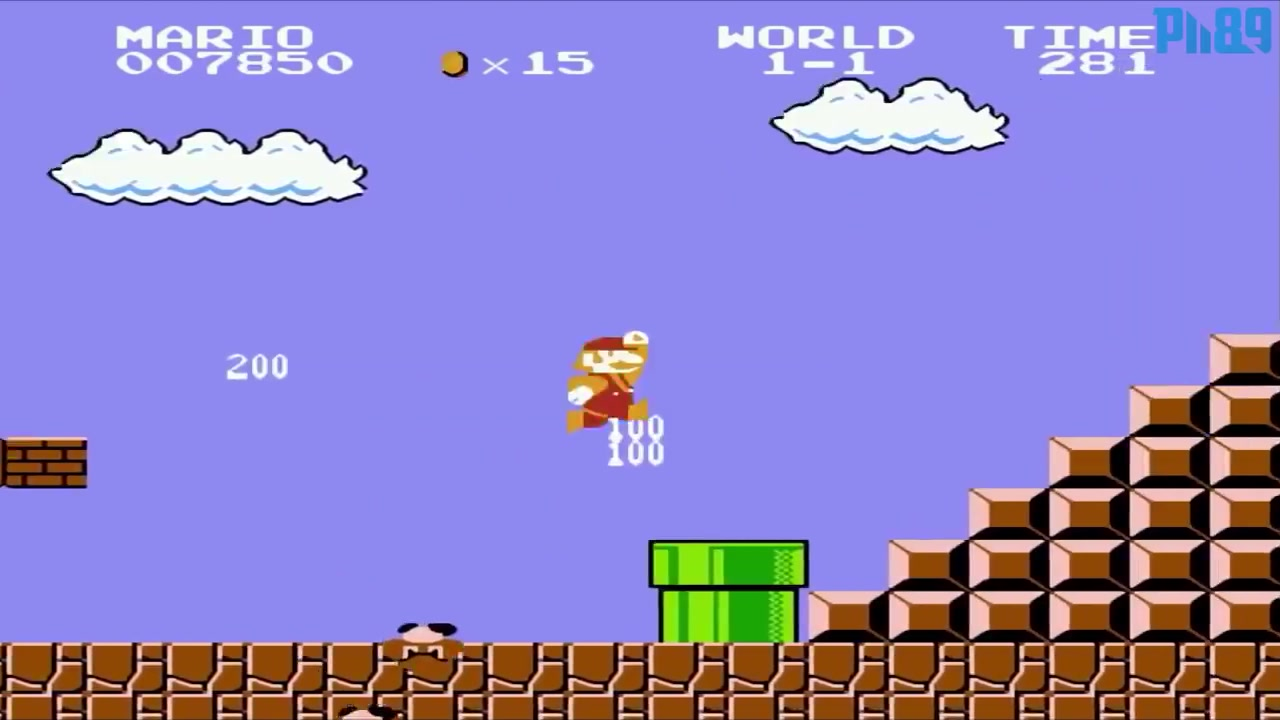mario: (546, 320, 681, 449)
